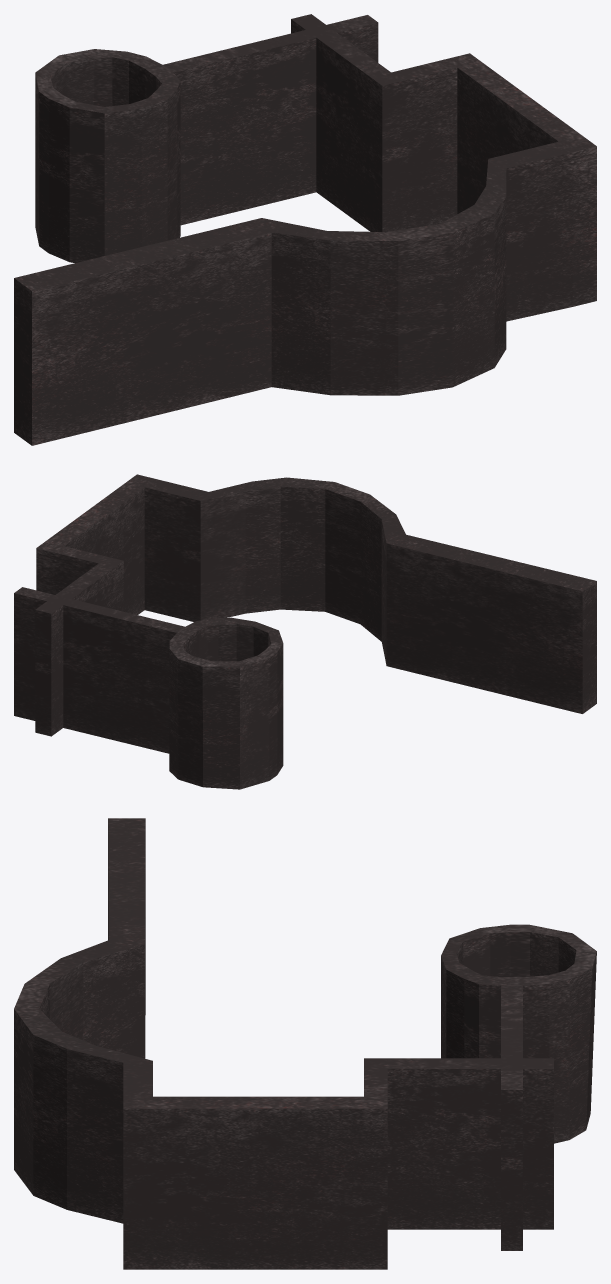
Rendered from Stage2.FBX.
3 renders of one model, top to bottom at view 1: azimuth 30°, elevation 25°; view 2: azimuth 150°, elevation 25°; view 3: azimuth 270°, elevation 25°, orthographic. The views are drawn at different scales.
Parts seen in each view (by area): view 1: Box001; view 2: Box001; view 3: Box001.
Part boxes in pixels (box(x1,y1,x2,y2)): Box001: box(14, 14, 596, 445); Box001: box(14, 474, 596, 789); Box001: box(14, 818, 596, 1269).
Size of the model in its own units: 105 by 27.14 by 89.1.
